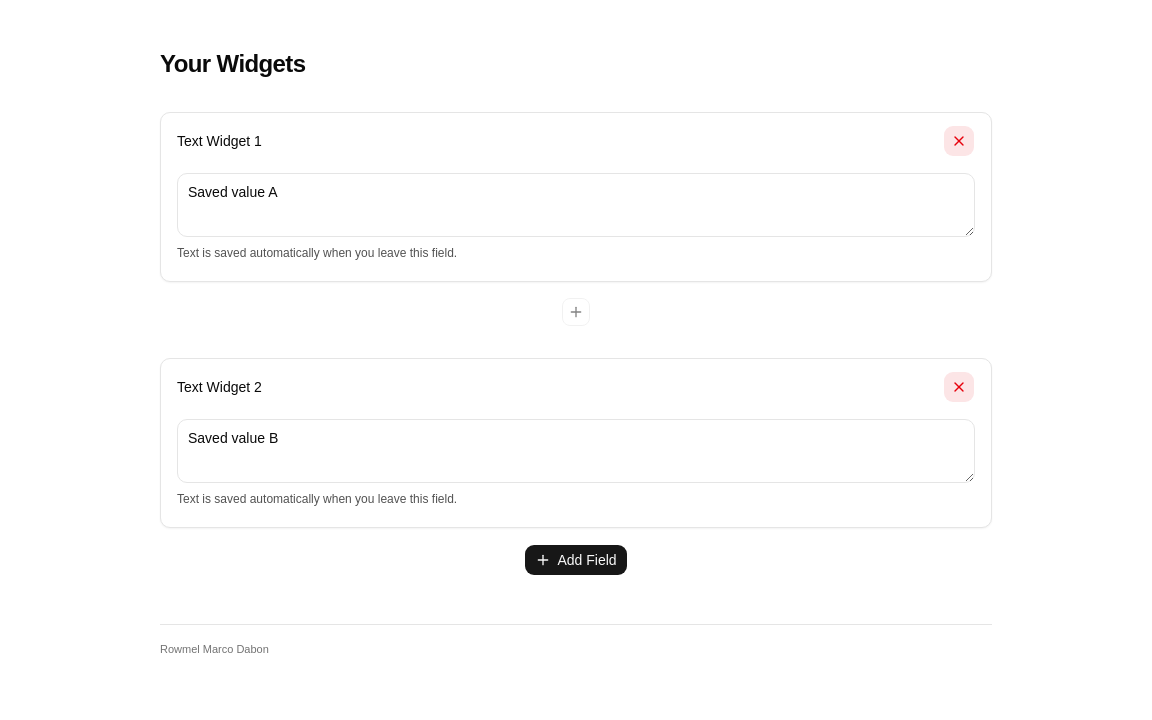
Test: widgets › sends the completed value on blur, rather than on each keystroke
Clear the text box named "Text Widget 1" at x=576, y=205, box [177,173,975,237]
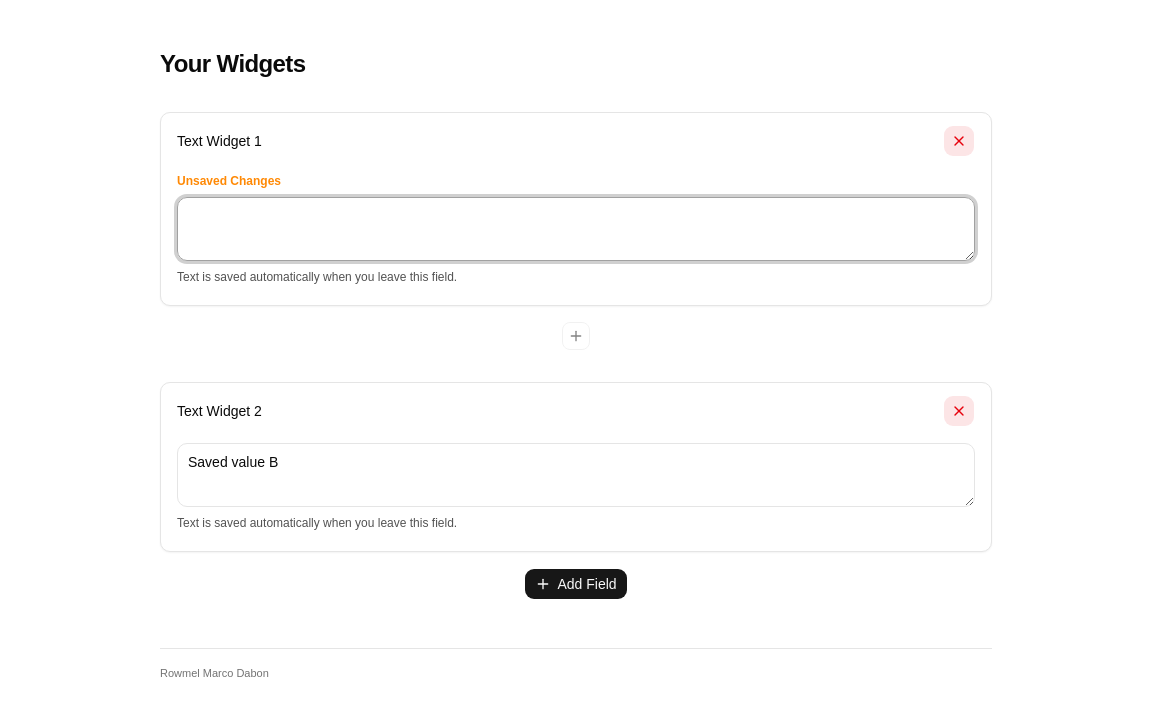
Type "Finished typing" into the text box named "Text Widget 1" at x=576, y=229, box [177,197,975,261]
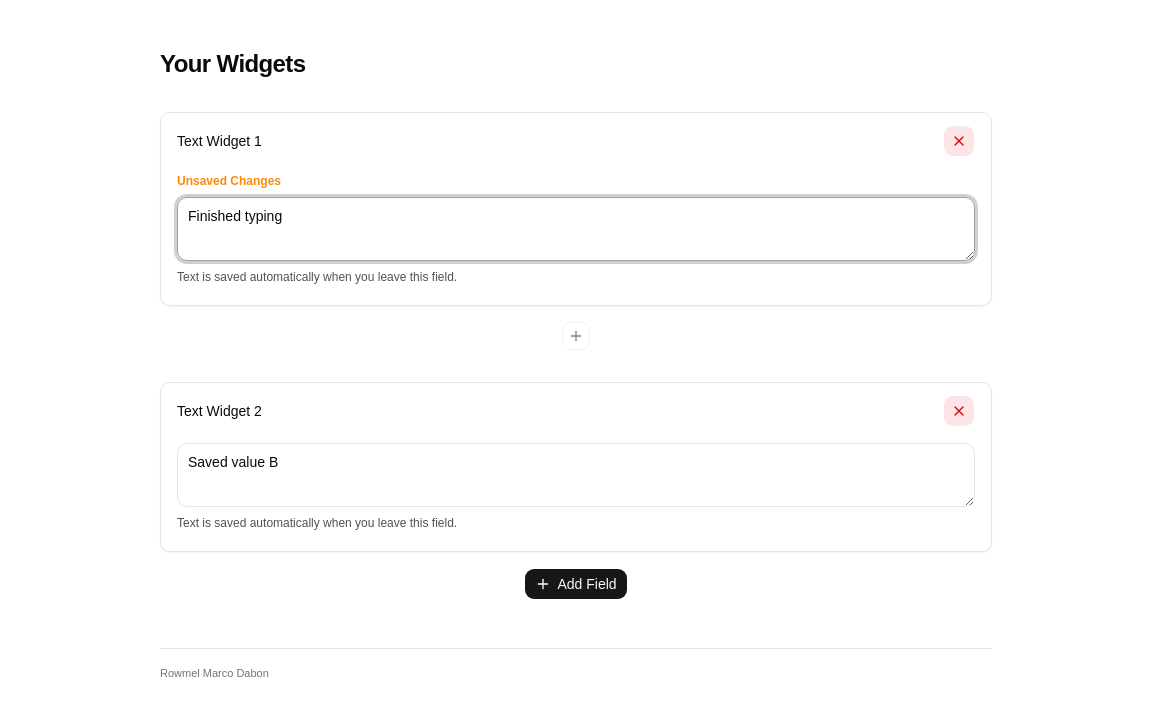
Press Tab
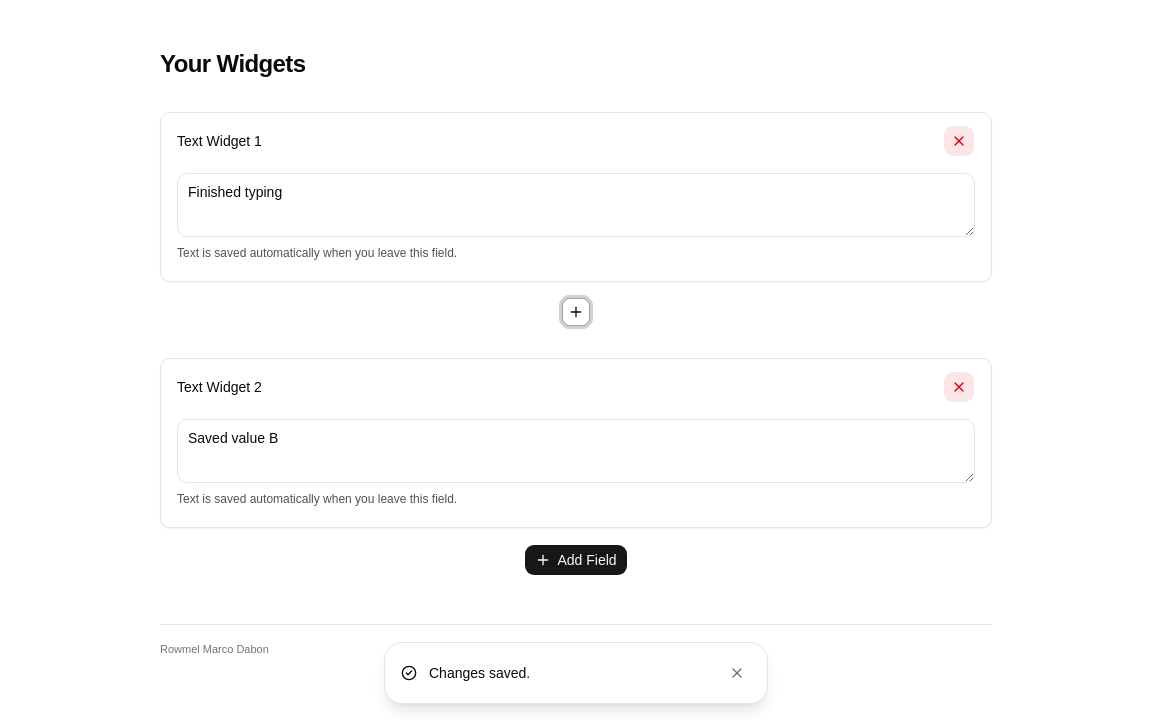
Expected: the heading "Changes saved." is shown, [429,665,530,681]
